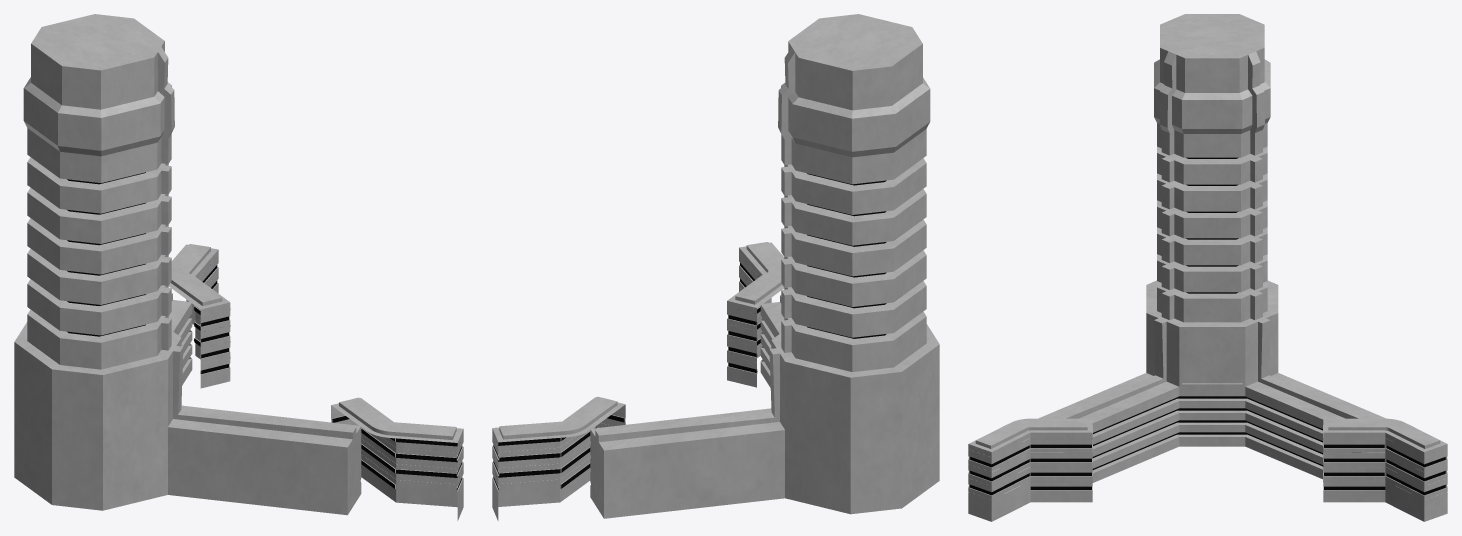
The model's file is tower.fbx.
The picture shows the model from 3 angles, left to right: view 1: azimuth 30°, elevation 25°; view 2: azimuth 150°, elevation 25°; view 3: azimuth 270°, elevation 25°; orthographic projection. The views are drawn at different scales.
Parts seen in each view (by area): view 1: tower; view 2: tower; view 3: tower.
Boxes of the visible parts, <box> form: tower: <box>14,14,463,520</box>; tower: <box>492,14,939,520</box>; tower: <box>968,14,1447,521</box>.
Size of the model in its own units: 20692 by 28033 by 31828.
Materials: 1 (1 with a texture image).
